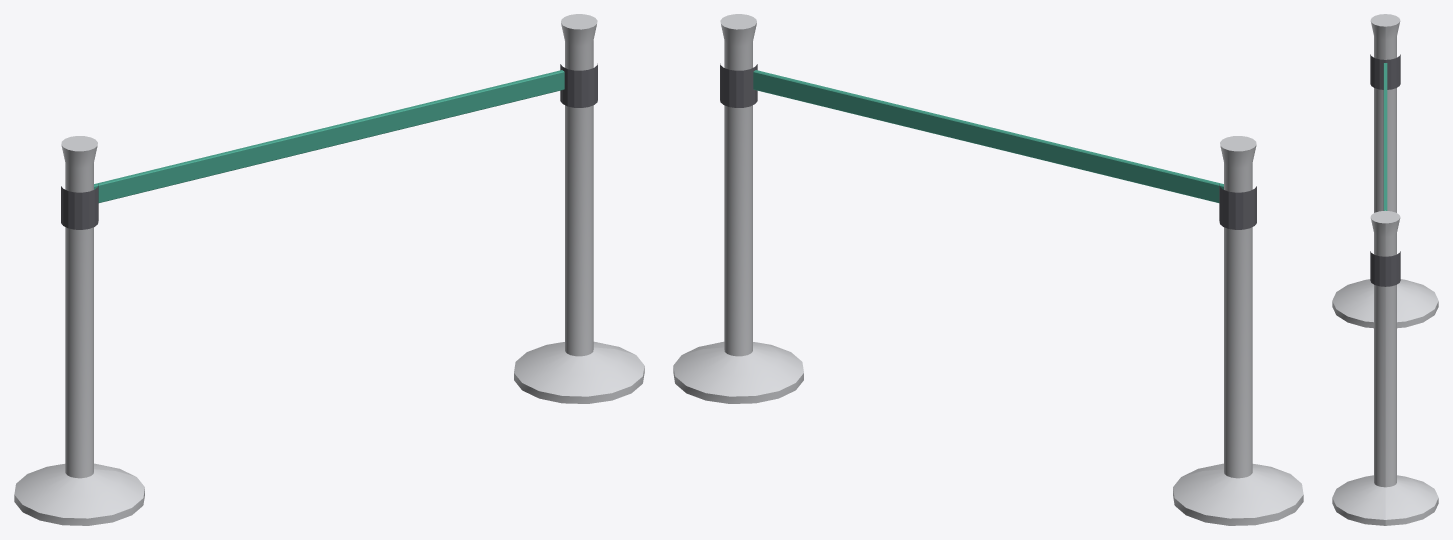
File: petrol-station-and-forecourt-shop-queue-rail-cc666e73__33976.glb
The picture shows the model from 3 angles, left to right: view 1: azimuth 30°, elevation 25°; view 2: azimuth 150°, elevation 25°; view 3: azimuth 270°, elevation 25°; orthographic projection. The views are drawn at different scales.
Parts seen in each view (by area): view 1: queue-rail; view 2: queue-rail; view 3: queue-rail.
Boxes of the visible parts, x1=… form: queue-rail: x1=14, y1=14, x2=644, y2=525; queue-rail: x1=673, y1=14, x2=1303, y2=525; queue-rail: x1=1332, y1=14, x2=1438, y2=525.
Bounding box in the file's own units: 1.72 × 0.95 × 0.32.
